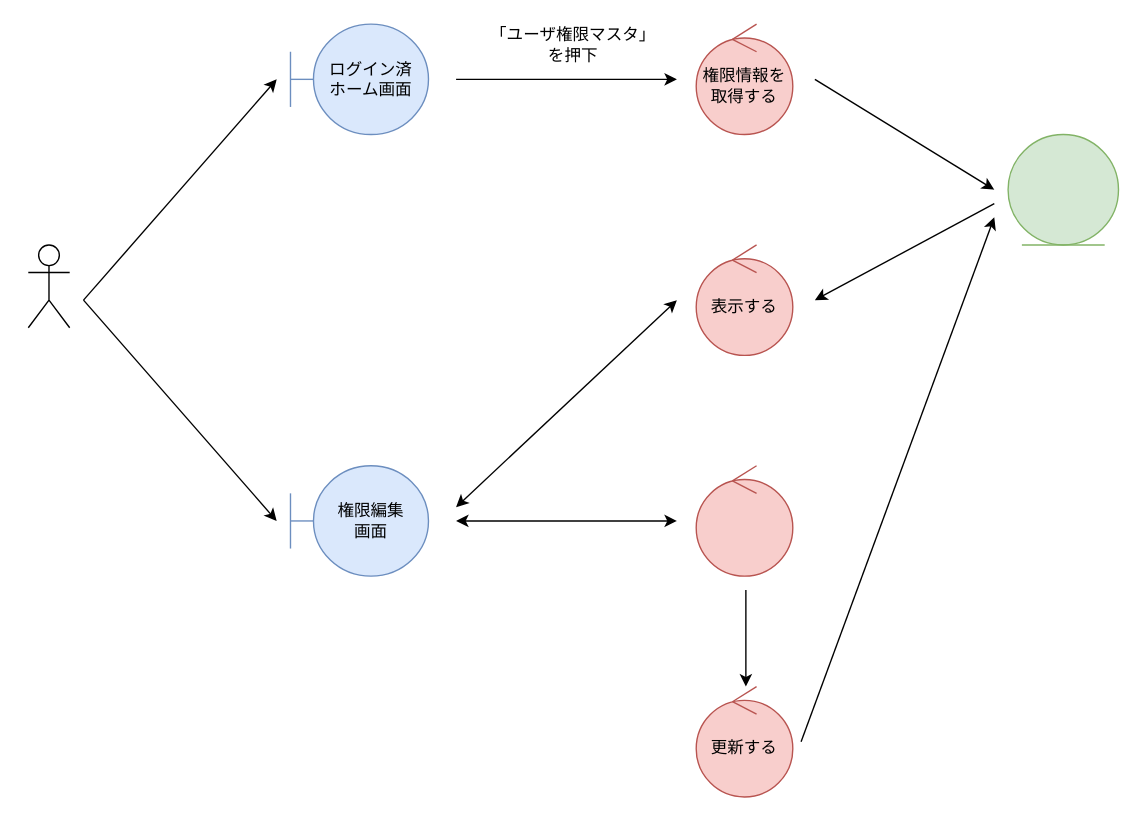
Some shapes in this 1143 by 821 pixel diagram are drawn without their labels. Here are the shapes that lost their labels. From the top down, the centre of each, then its label:
the point at 1062,189: 権限情報
the point at 48,286: 管理者
the point at 744,520: 更新内容を検証する
